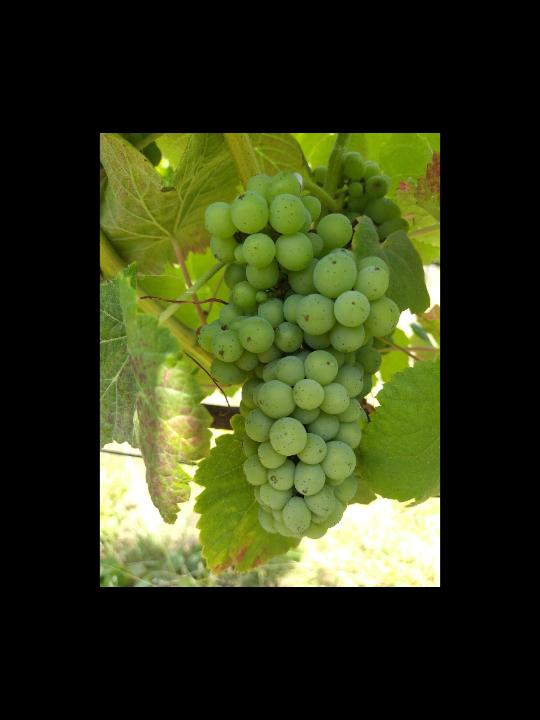grape: (194, 169, 401, 542)
